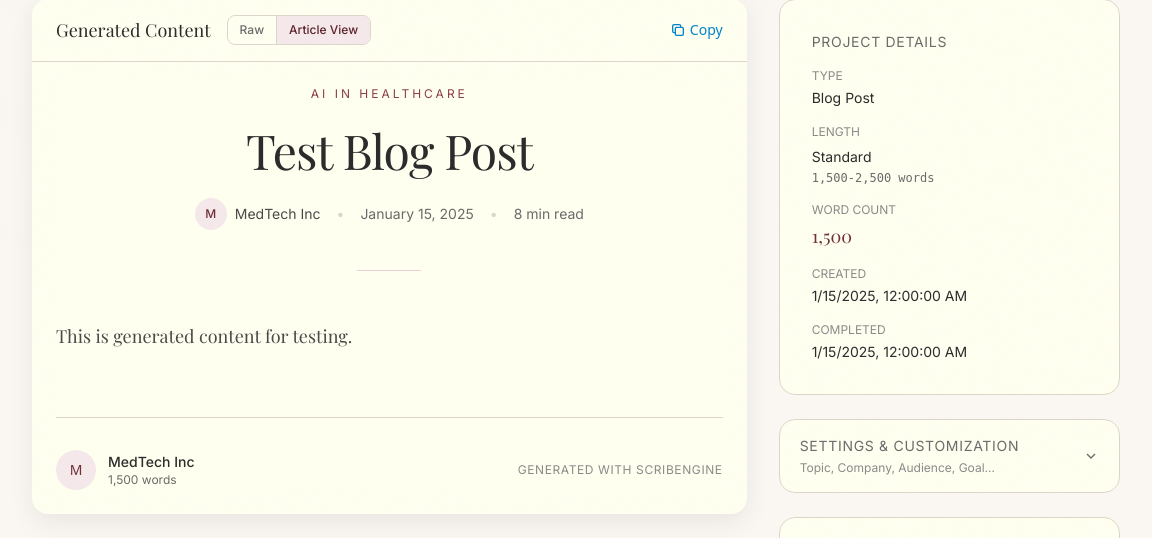
Test: Project Settings Panel › Change Detection › shows Save/Reset when form field changes
Click the heading "Settings & Customization" at (909, 446), box [800,436,1019,456]
(page scrolled)
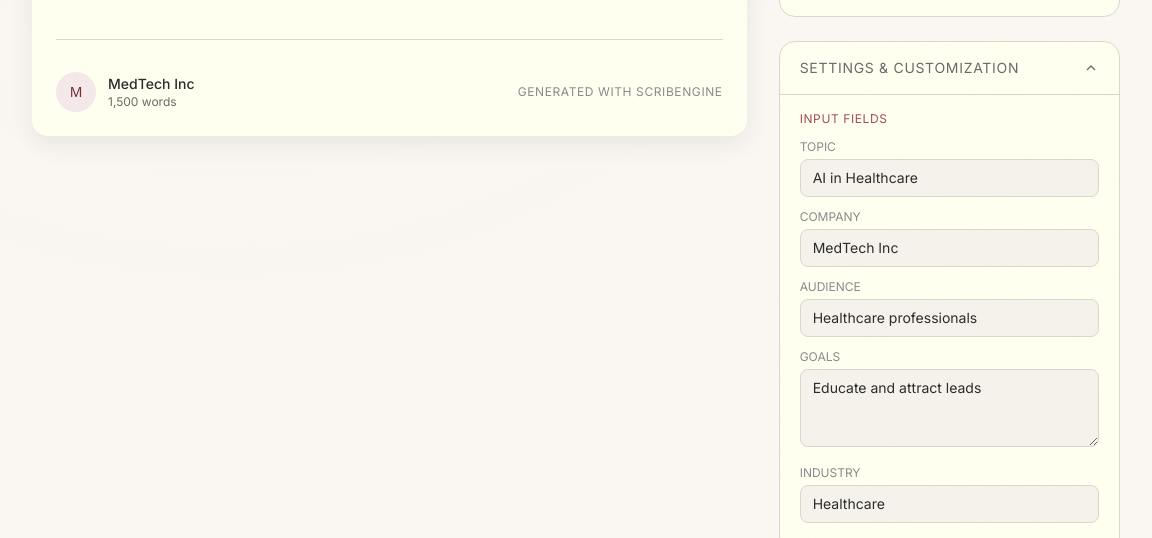
Replace the text in the field showing "AI in Healthcare" below "Topic" with "New Topic" at (949, 178), box [800,159,1099,197]
(page scrolled)
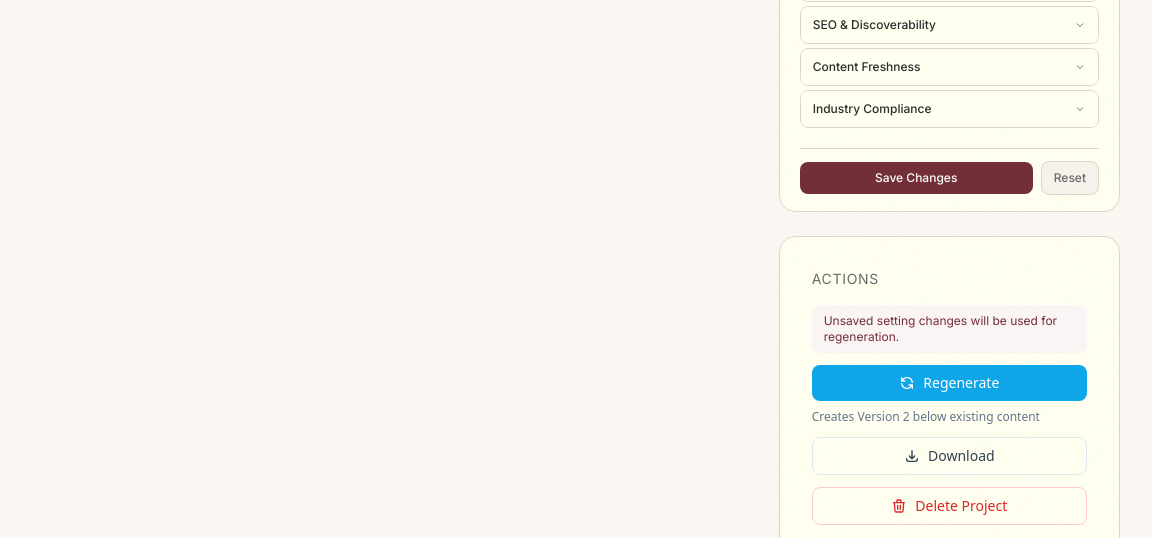
Result: the button "Save Changes" is shown at [800,162,1033,194]
Result: the button "Reset" is shown at [1041,161,1099,195]
